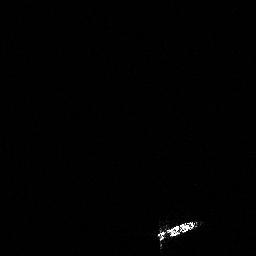ship: (154, 216, 202, 251)
